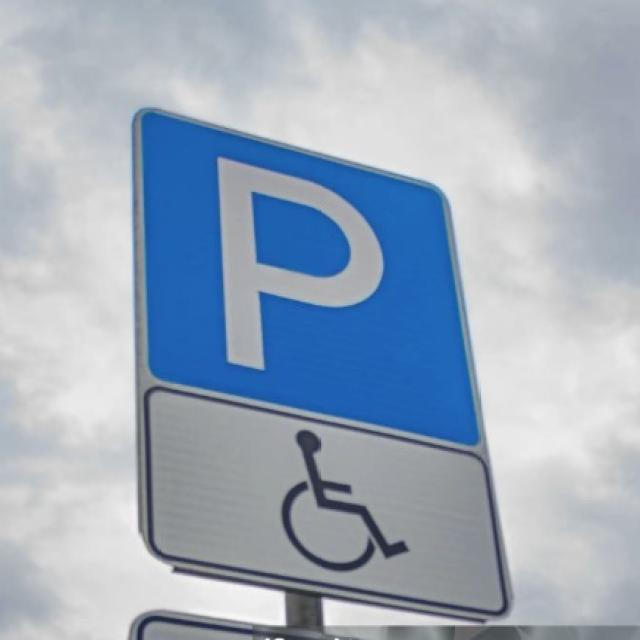symbol_of_access: (138, 382, 517, 622)
